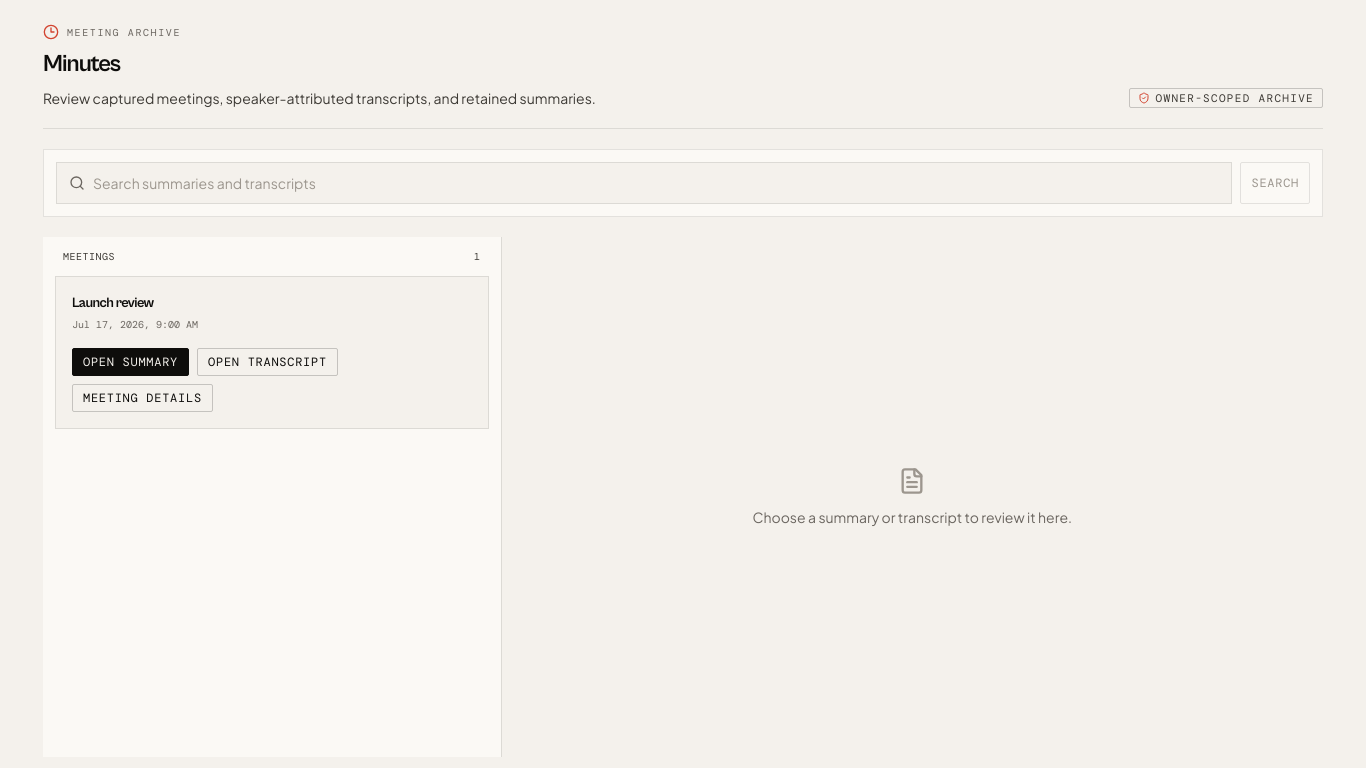
Test: MinutesPage read surface › continues truncated search results with the opaque cursor
Expected: the heading "Launch review" is shown, left=72, top=295, right=154, bottom=311
Type "planning" into the search field named "Search Minutes".
click(656, 183); type("planning")  # box left=93, top=163, right=1220, bottom=203
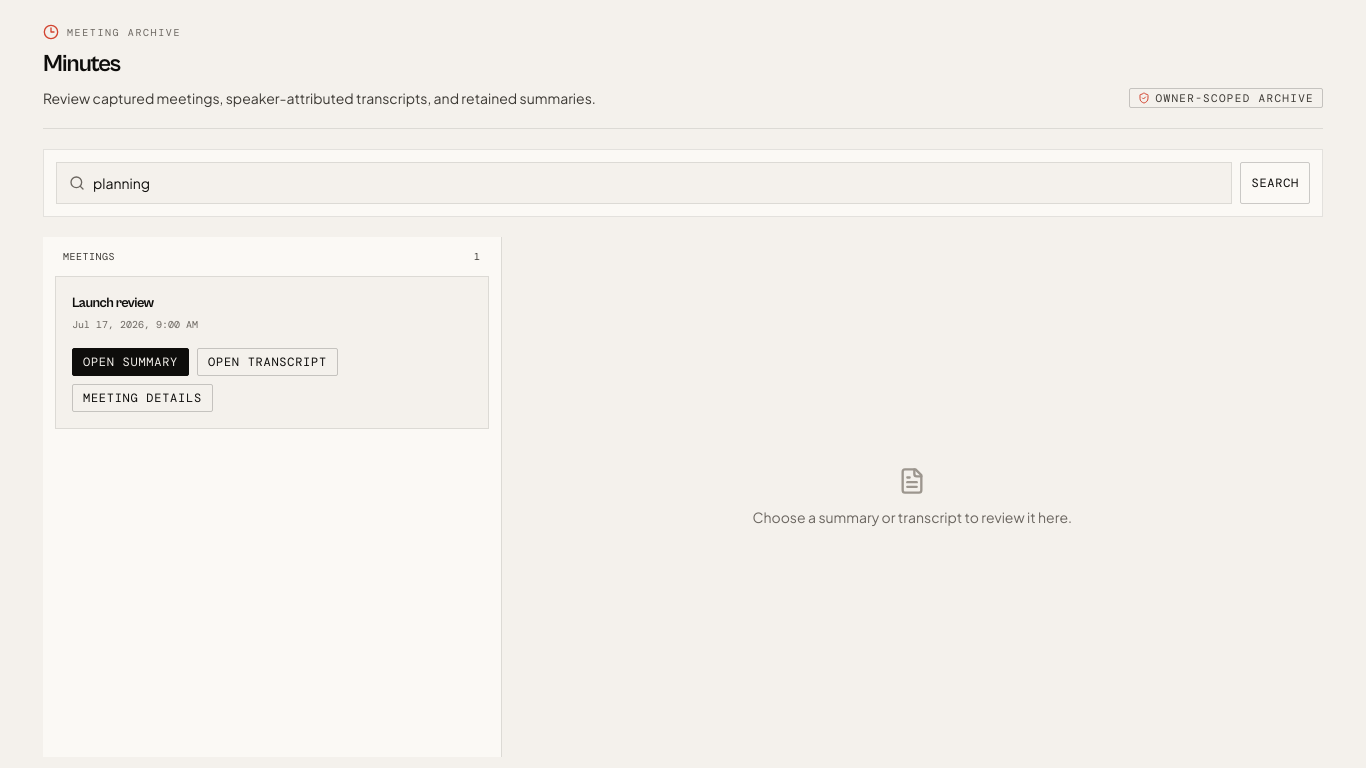
Click the button "Search".
click(1275, 183)  # box left=1240, top=162, right=1310, bottom=204
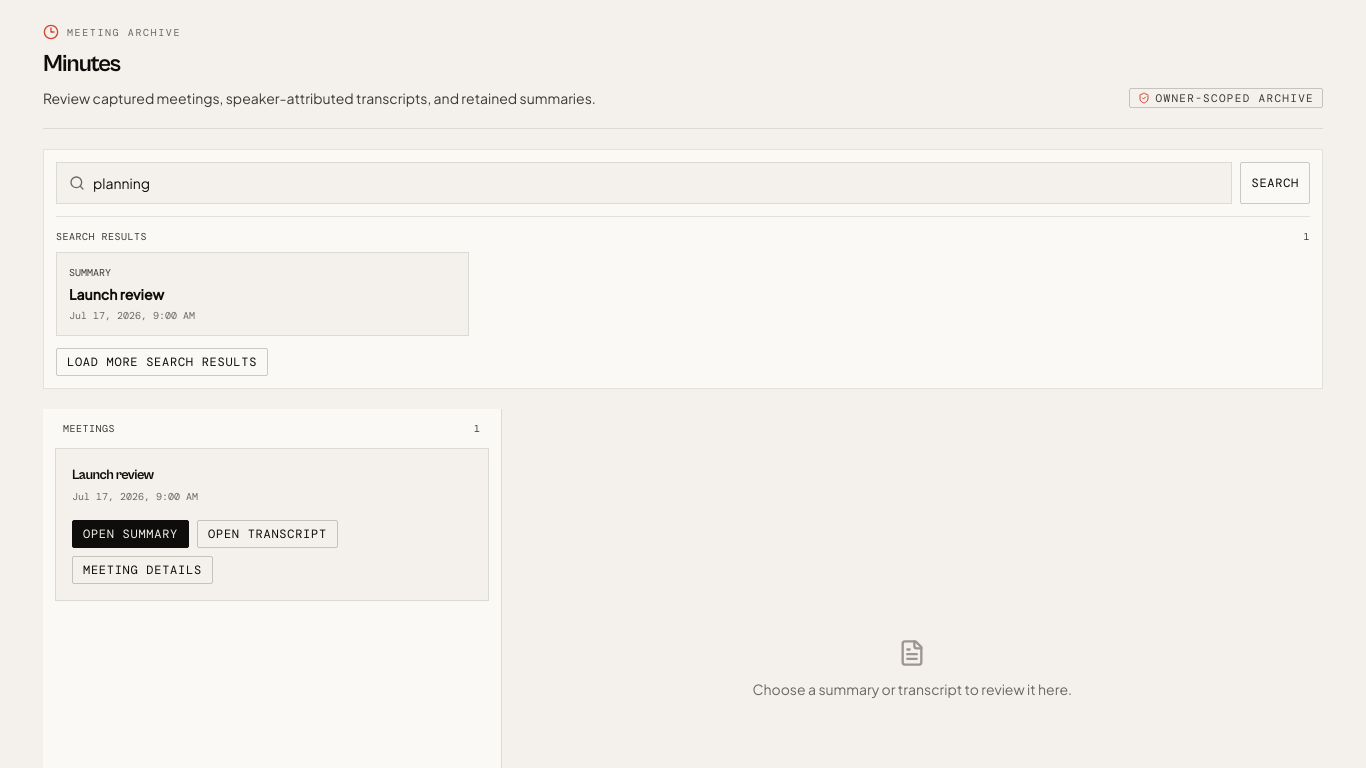
Click the button "Load more search results".
click(162, 362)  # box left=56, top=348, right=268, bottom=376
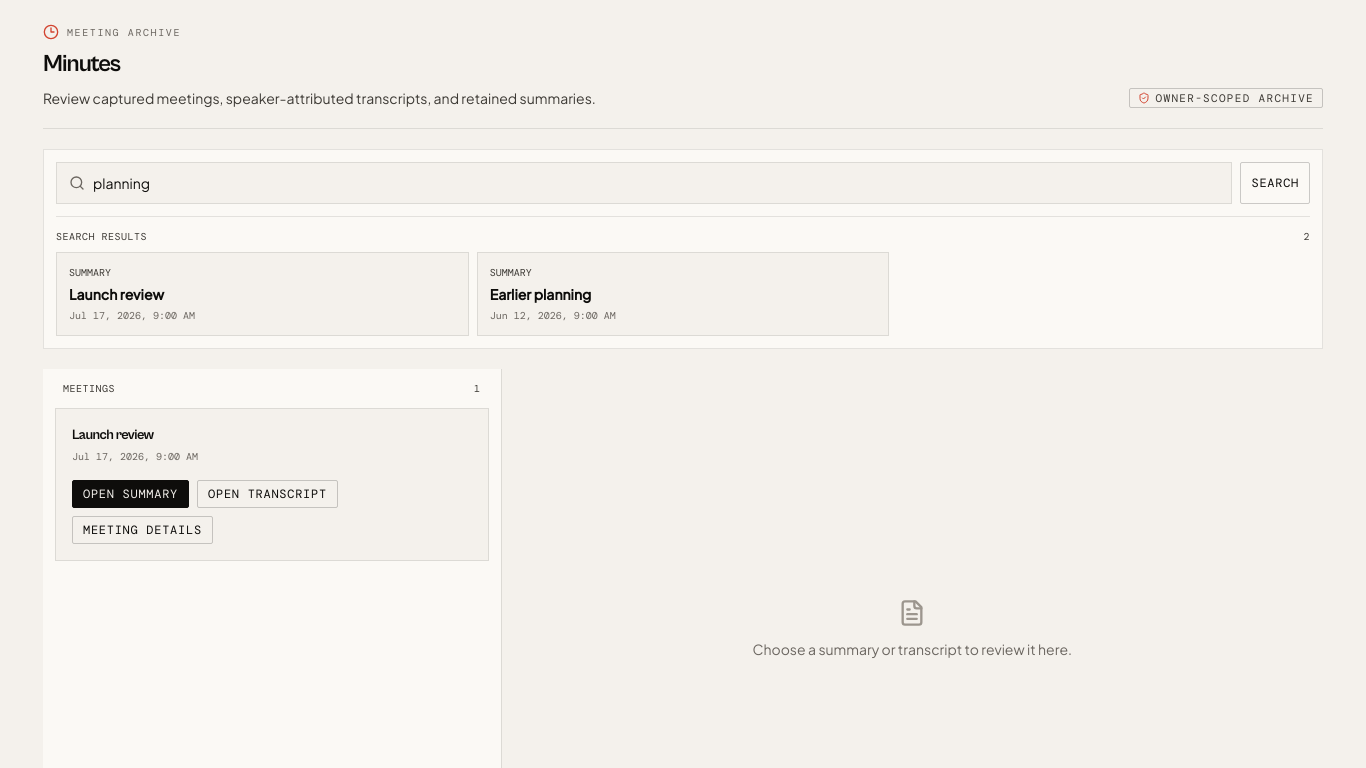
Now the button with aria-label "Open result: Earlier planning" is shown, box left=477, top=252, right=889, bottom=336
